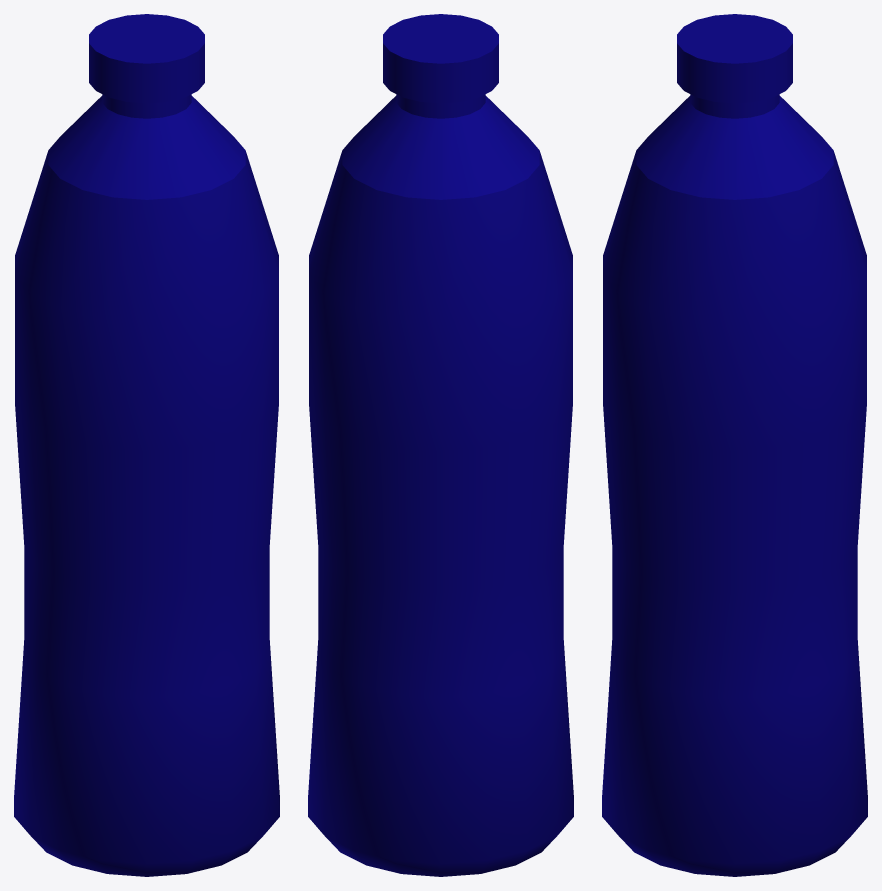
Rendered from WaterBottle.fbx.
3 renders of one model, left to right at view 1: azimuth 30°, elevation 25°; view 2: azimuth 150°, elevation 25°; view 3: azimuth 270°, elevation 25°, orthographic.
Visible parts, largest first — view 1: Water_Bottle; view 2: Water_Bottle; view 3: Water_Bottle.
Part boxes in pixels (left/top/right/bottom): Water_Bottle: left=14, top=14, right=279, bottom=876; Water_Bottle: left=308, top=14, right=573, bottom=876; Water_Bottle: left=602, top=14, right=867, bottom=876.
Size of the model in its own units: 6.46 by 20.83 by 6.36.
